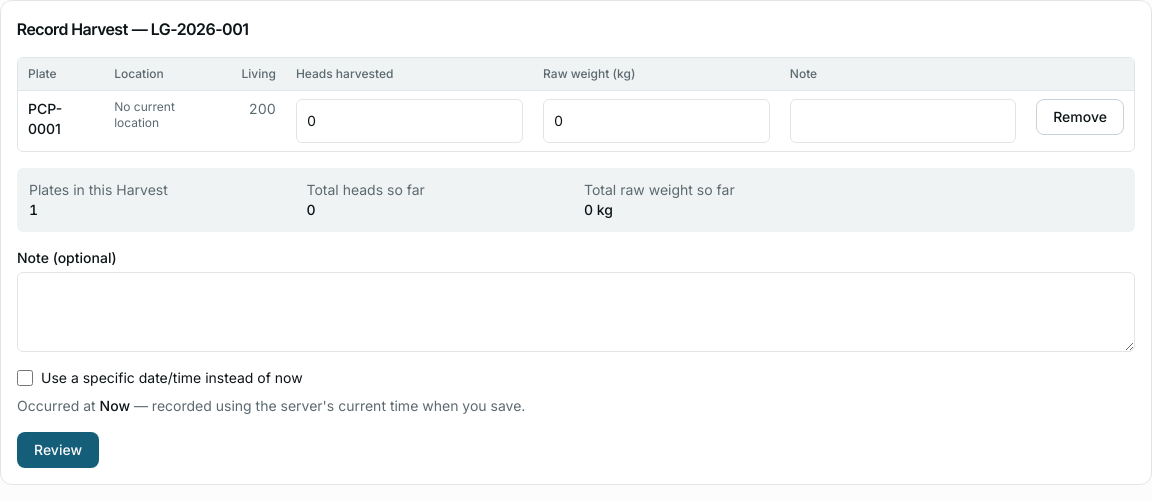
LeafyHarvestForm HOTFIX-TIME-002: server-authoritative harvest time › default mode never shows an uncommitted browser timestamp as though it is already authoritative -- shows Now instead
Replace the text in the number field named "heads harvested" with "50" at (410, 121), box [296,99,523,143]
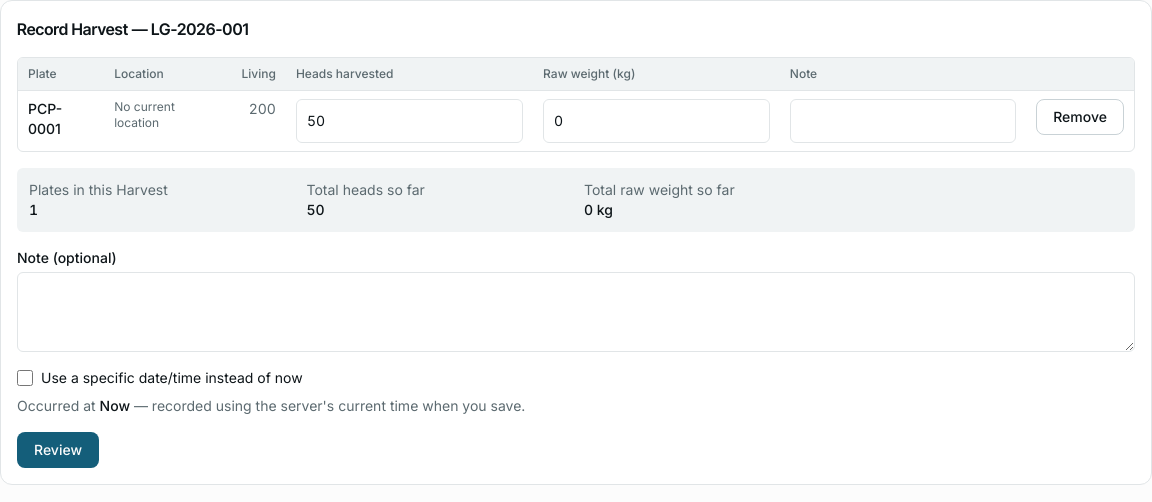
Replace the text in the number field named "raw harvested weight" with "5" at (656, 121), box [543,99,770,143]
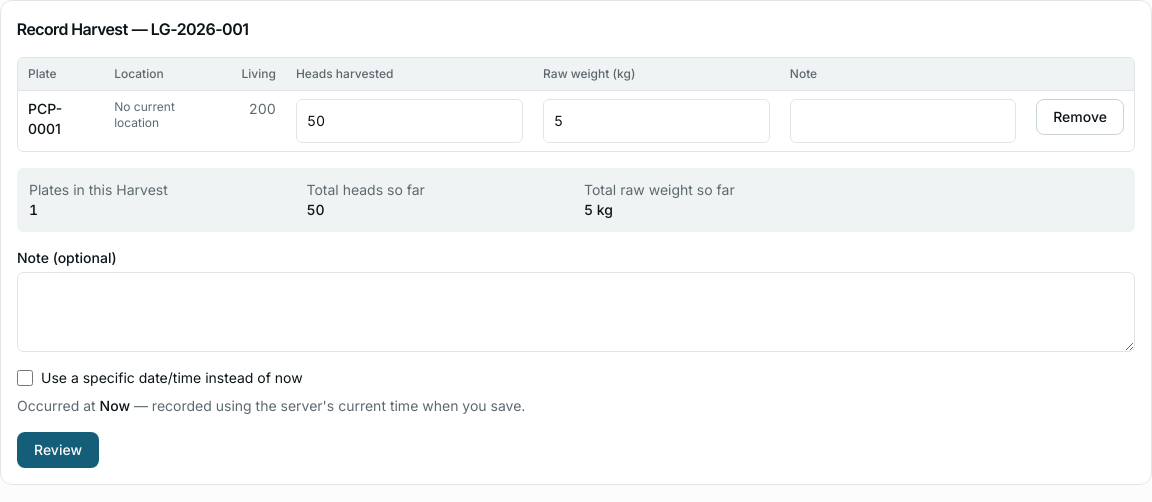
Click the button "Review" at (58, 450), box [17,432,99,468]
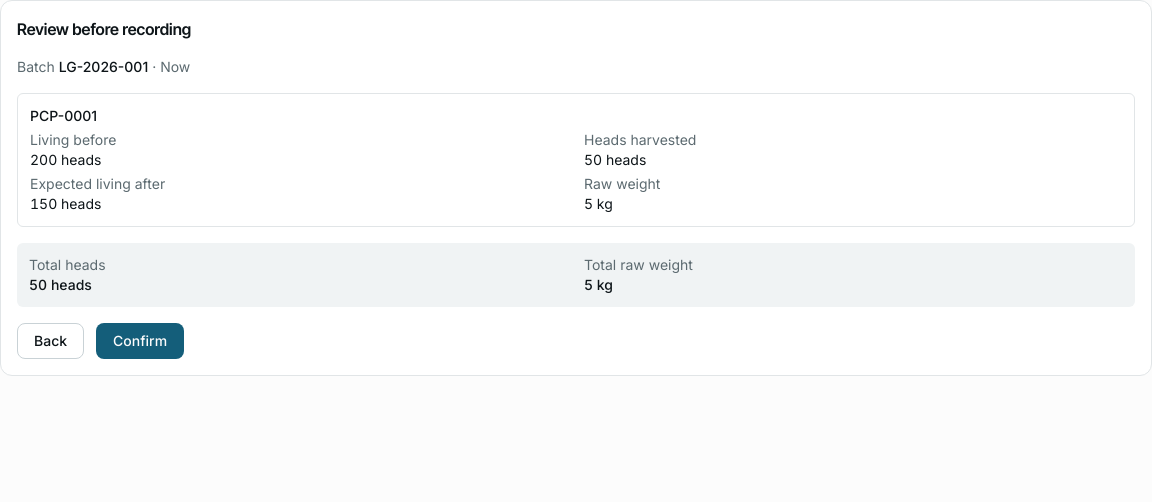
Check: the text "Now" is shown, box [160,58,190,75]
Check: the heading "Review before recording" is shown, box [17,19,191,39]
